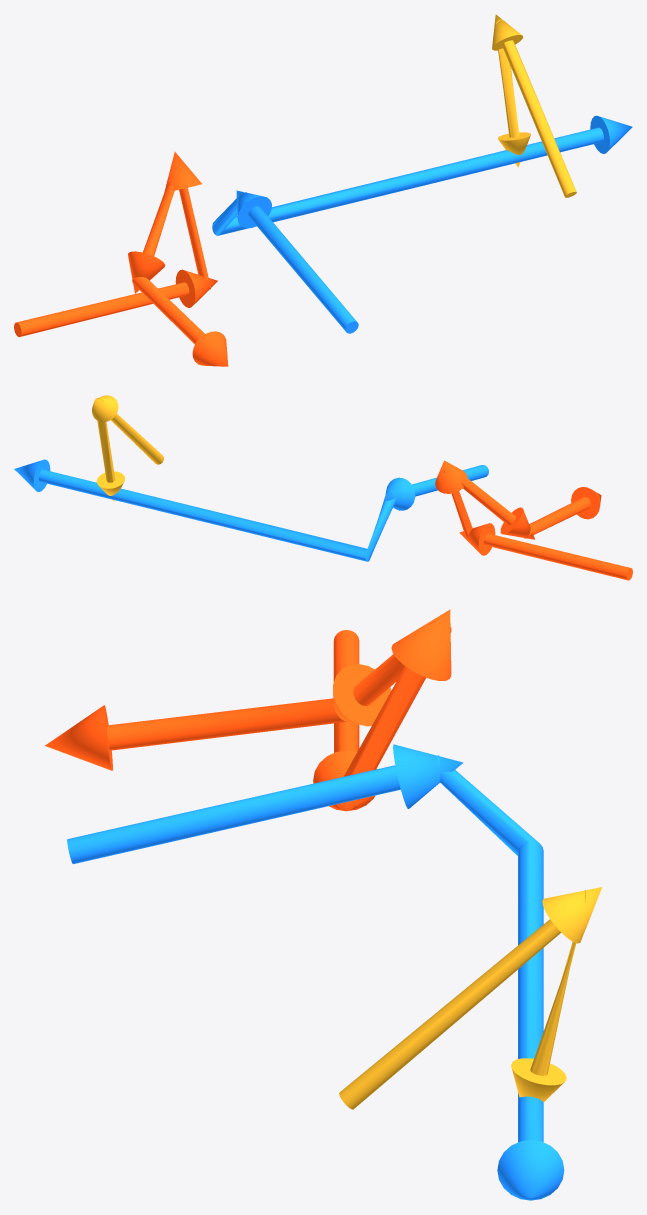
File: hydraulic_control_valve_assembly_flow.glb
3 views of the same model, one above another, from view 1: azimuth 30°, elevation 25°; view 2: azimuth 150°, elevation 25°; view 3: azimuth 270°, elevation 25° (orthographic). The views are drawn at different scales.
Parts seen in each view (by area): view 1: B_to_T, P_to_A, relief; view 2: B_to_T, P_to_A, relief; view 3: B_to_T, P_to_A, relief.
Part boxes in pixels (x1=…): B_to_T: x1=212, y1=115, x2=632, y2=333; P_to_A: x1=14, y1=151, x2=228, y2=366; relief: x1=492, y1=14, x2=576, y2=197; B_to_T: x1=14, y1=459, x2=488, y2=561; P_to_A: x1=435, y1=460, x2=632, y2=580; relief: x1=92, y1=395, x2=163, y2=501; B_to_T: x1=67, y1=744, x2=564, y2=1200; P_to_A: x1=45, y1=609, x2=451, y2=811; relief: x1=339, y1=887, x2=602, y2=1109.
Bounding box in the file's own units: 0.714 × 0.1463 × 0.3027.
